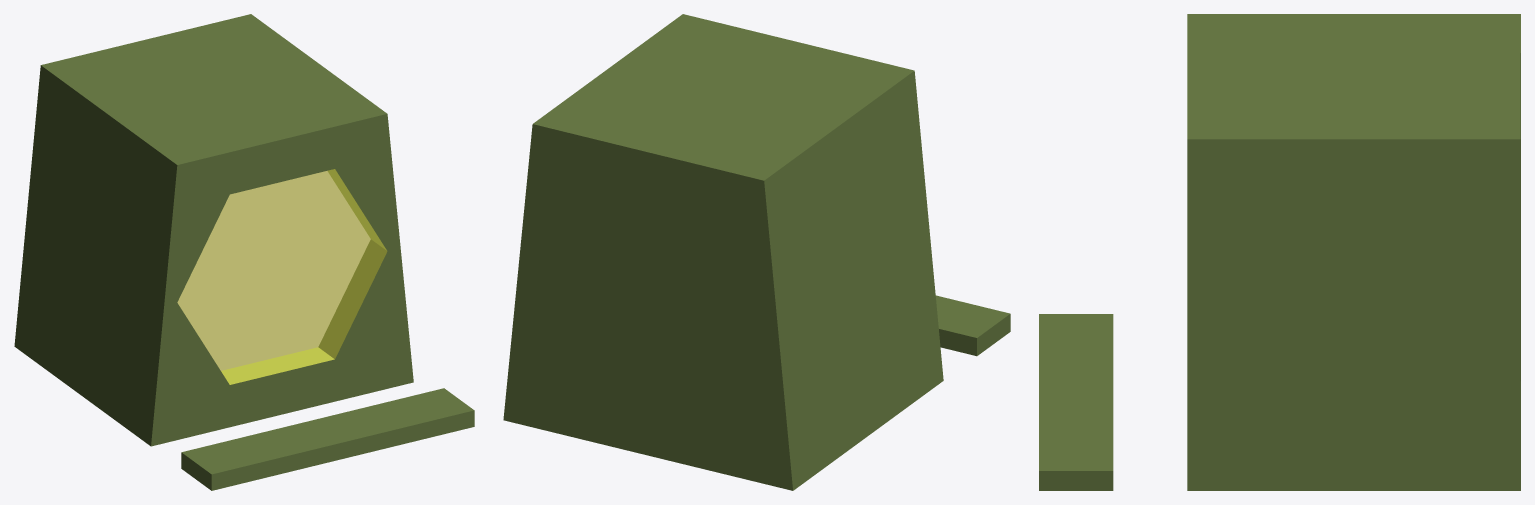
The model's file is computer4.gltf.
The picture shows the model from 3 angles, left to right: view 1: azimuth 30°, elevation 25°; view 2: azimuth 150°, elevation 25°; view 3: azimuth 270°, elevation 25°; orthographic projection. The views are drawn at different scales.
Visible parts, largest first — view 1: Mesh1 Model, Mesh2 Model; view 2: Mesh1 Model, Mesh2 Model; view 3: Mesh1 Model, Mesh2 Model.
Boxes of the visible parts, x1,y1,x2,y2 form: Mesh1 Model: [14, 14, 413, 446]; Mesh2 Model: [181, 388, 474, 490]; Mesh1 Model: [503, 14, 943, 490]; Mesh2 Model: [935, 295, 1010, 356]; Mesh1 Model: [1187, 14, 1520, 490]; Mesh2 Model: [1039, 314, 1113, 490].
Size of the model in its own units: 0.5 by 0.5 by 0.65.
